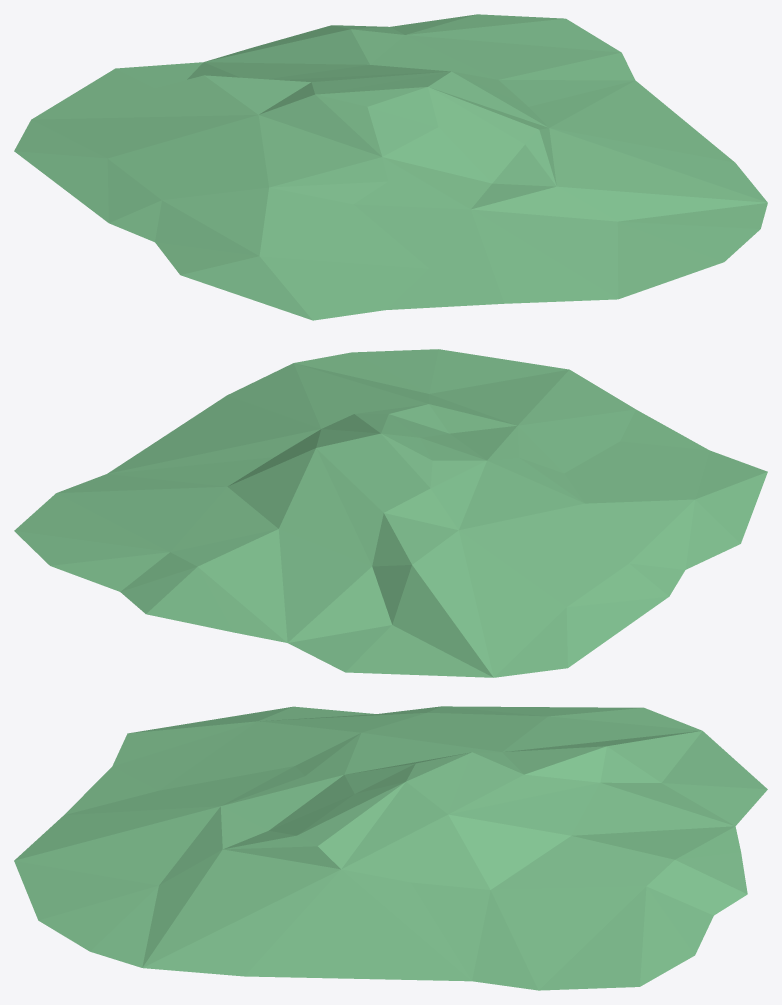
Rendered from GrassPatchSmall_03.glb.
3 renders of one model, top to bottom at view 1: azimuth 30°, elevation 25°; view 2: azimuth 150°, elevation 25°; view 3: azimuth 270°, elevation 25°, orthographic. The views are drawn at different scales.
Parts seen in each view (by area): view 1: GrassPatchSmall_03; view 2: GrassPatchSmall_03; view 3: GrassPatchSmall_03.
Boxes of the visible parts, <box> form: GrassPatchSmall_03: <box>14,14,767,320</box>; GrassPatchSmall_03: <box>14,349,767,677</box>; GrassPatchSmall_03: <box>14,706,767,990</box>.
Size of what is drawn, in the model's own units: 2.75 by 0.3523 by 3.08.
Materials: 1 (1 with a texture image).
